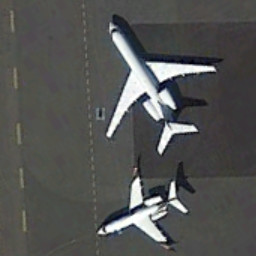Airplane: (92, 18, 223, 161), (90, 162, 198, 253)
